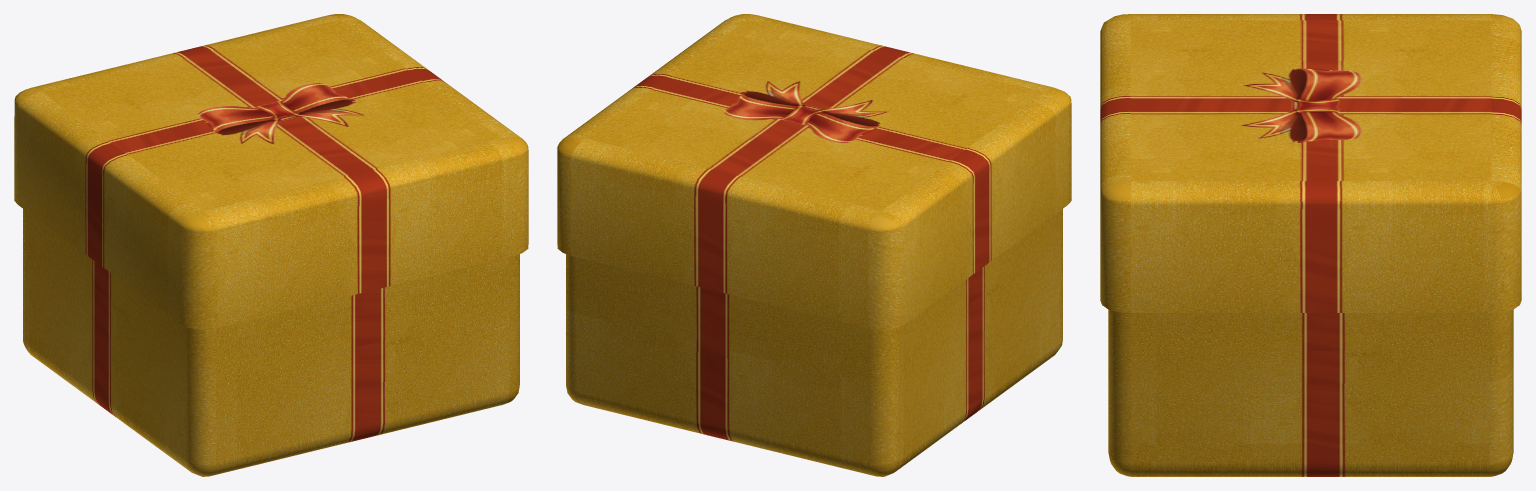
Rendered from gift box.FBX.
3 views of the same model, side by side, from view 1: azimuth 30°, elevation 25°; view 2: azimuth 150°, elevation 25°; view 3: azimuth 270°, elevation 25° (orthographic). The views are drawn at different scales.
Visible parts, largest first — view 1: Box007, Box005; view 2: Box007, Box005; view 3: Box007, Box005.
Part boxes in pixels (left/top/right/bottom): Box007: left=14, top=14, right=528, bottom=329; Box005: left=23, top=209, right=519, bottom=476; Box007: left=557, top=14, right=1071, bottom=329; Box005: left=566, top=209, right=1062, bottom=476; Box007: left=1100, top=14, right=1521, bottom=312; Box005: left=1108, top=309, right=1513, bottom=476.
Bounding box in the file's own units: 35.32 × 25.99 × 33.71.
Materials: 1 (1 with a texture image).
